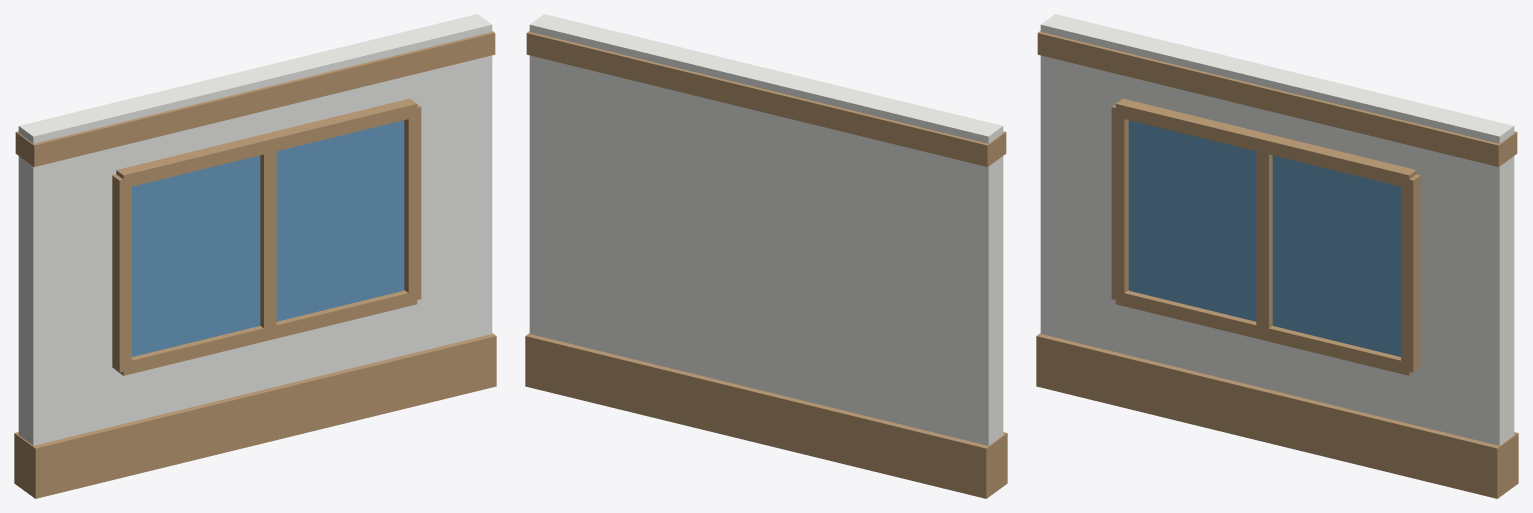
Rendered from tennis-club-and-courts-clubhouse-window-bay-37fa72ed__33634.glb.
3 views of the same model, side by side, from view 1: azimuth 30°, elevation 25°; view 2: azimuth 150°, elevation 25°; view 3: azimuth 330°, elevation 25° (orthographic).
Visible parts, largest first — view 1: clubhouse-window-bay; view 2: clubhouse-window-bay; view 3: clubhouse-window-bay.
Part boxes in pixels (x1,y1,x2,y2): clubhouse-window-bay: (14,14,496,498); clubhouse-window-bay: (525,14,1007,498); clubhouse-window-bay: (1036,14,1518,498).
Size of the model in its own units: 4.02 by 3 by 0.3847.
